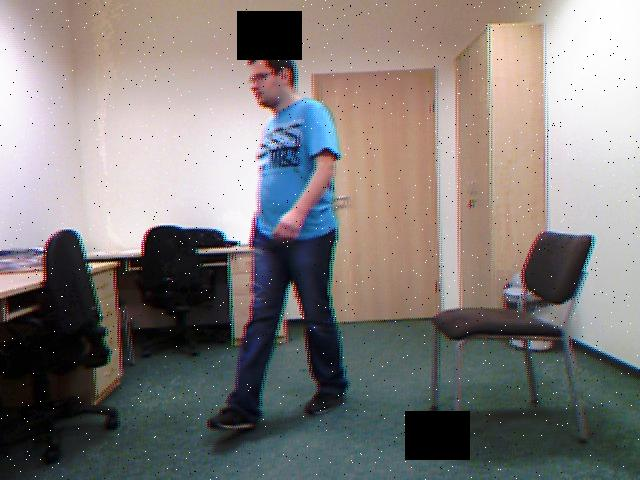walking: (202, 33, 361, 447)
